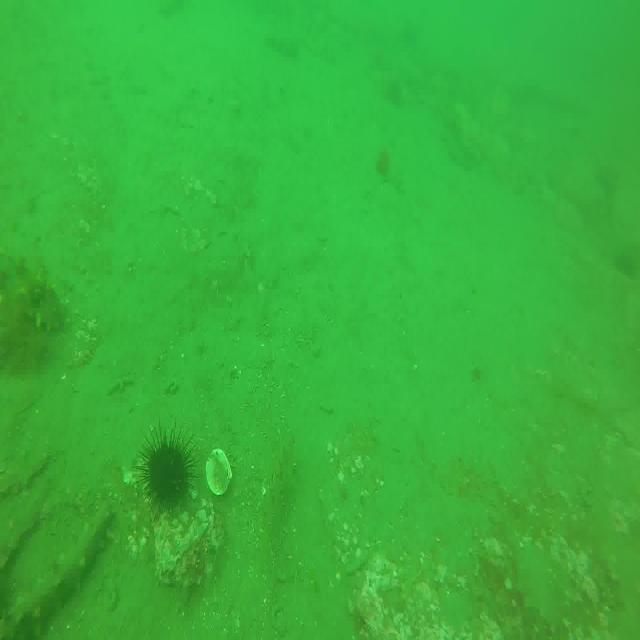echinus: (143, 437, 189, 508)
holothurian: (0, 499, 113, 640), (0, 260, 66, 335)
scallop: (204, 447, 234, 498)
